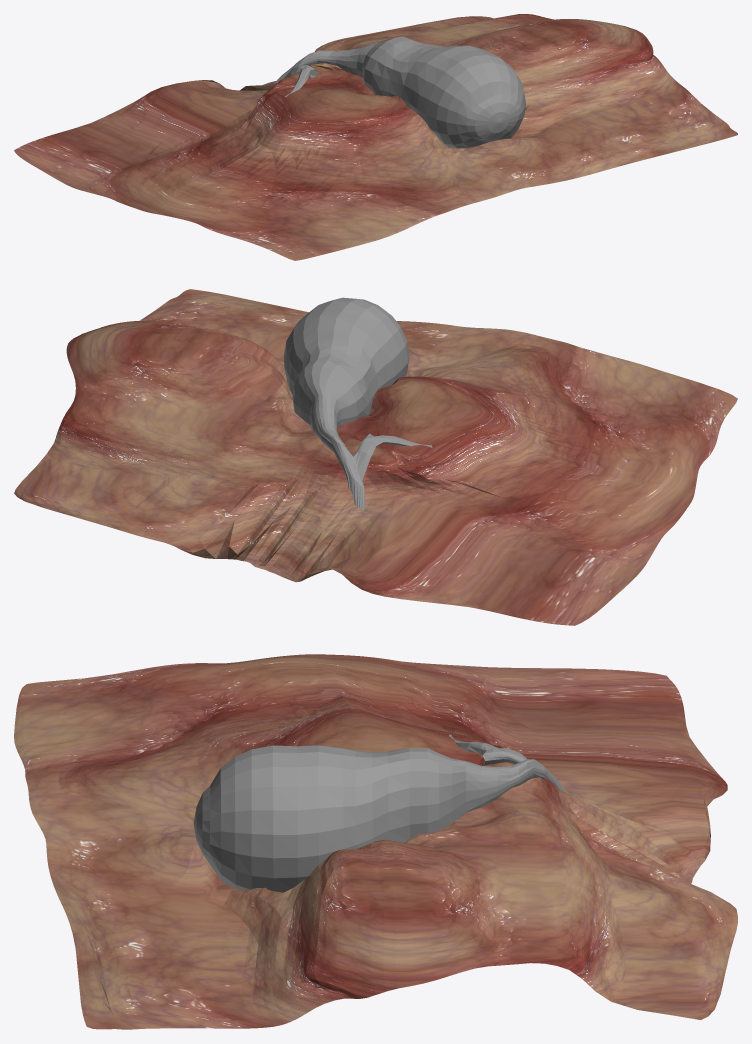
File: gliver.obj
3 renders of one model, top to bottom at view 1: azimuth 30°, elevation 25°; view 2: azimuth 150°, elevation 25°; view 3: azimuth 270°, elevation 25°, orthographic. The views are drawn at different scales.
Parts seen in each view (by area): view 1: pPlane1, newOFF; view 2: pPlane1, newOFF; view 3: pPlane1, newOFF.
Boxes of the visible parts, x1,y1,x2,y2 form: pPlane1: (14,14,737,260); newOFF: (265,36,525,148); pPlane1: (14,289,737,625); newOFF: (284,297,432,509); pPlane1: (14,654,737,1029); newOFF: (193,734,566,892).
Size of the model in its own units: 4.38 by 0.9265 by 3.36.
Materials: 2 (1 with a texture image).
